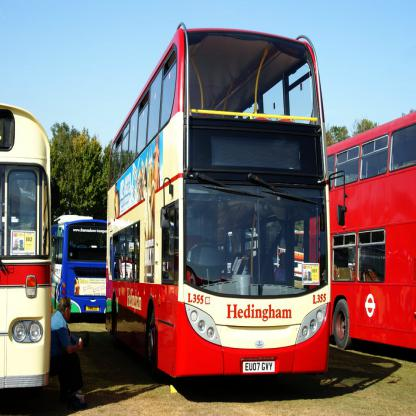Bus: (104, 20, 347, 372), (308, 106, 416, 354), (0, 103, 53, 387), (49, 214, 110, 317), (291, 228, 309, 274)
